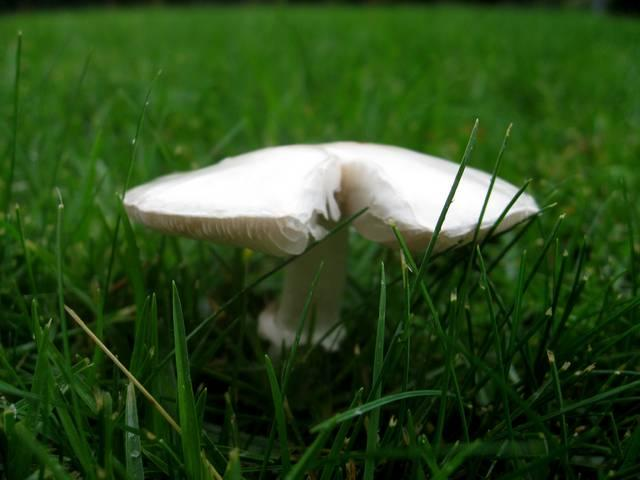poisonous_mushroom: (120, 139, 542, 356)
